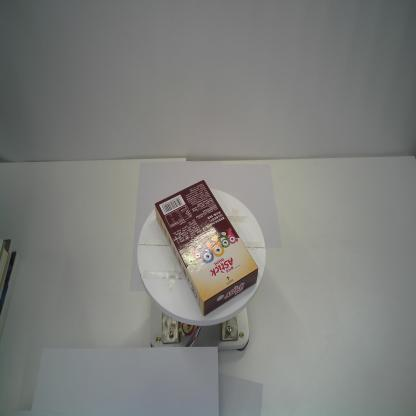Dessert: (154, 178, 260, 319)
